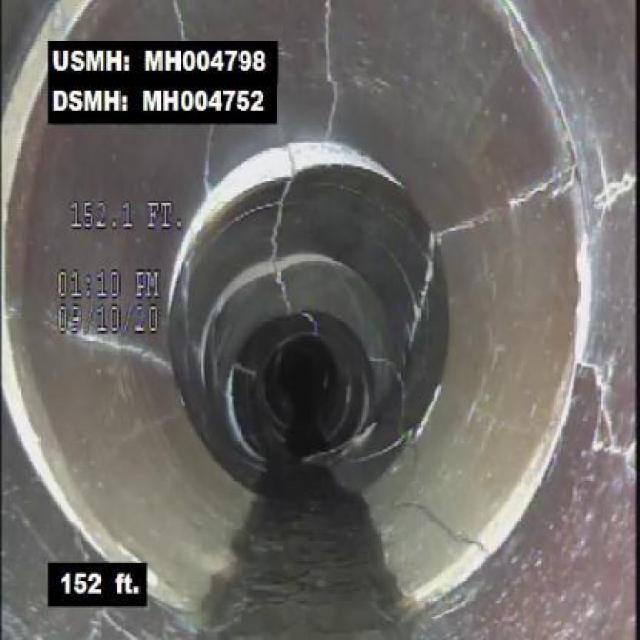Buckling: (174, 125, 418, 263)
Crack: (443, 158, 571, 244), (376, 477, 490, 558), (578, 354, 637, 481), (303, 5, 362, 126), (66, 332, 174, 377), (583, 149, 637, 237)
